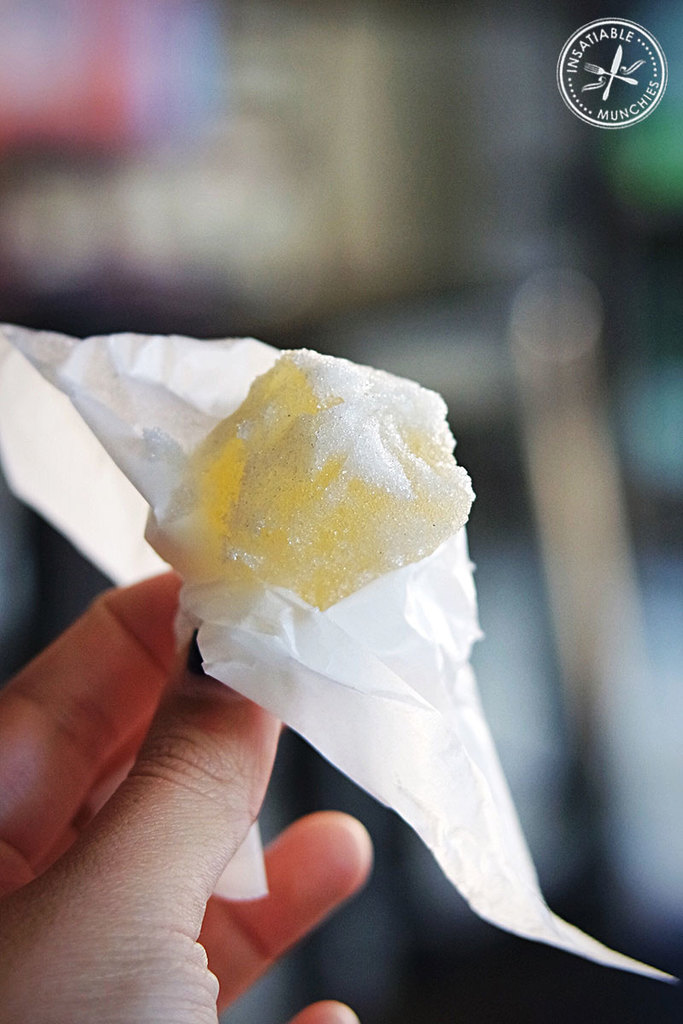Human_hand: (15, 561, 331, 1008)
